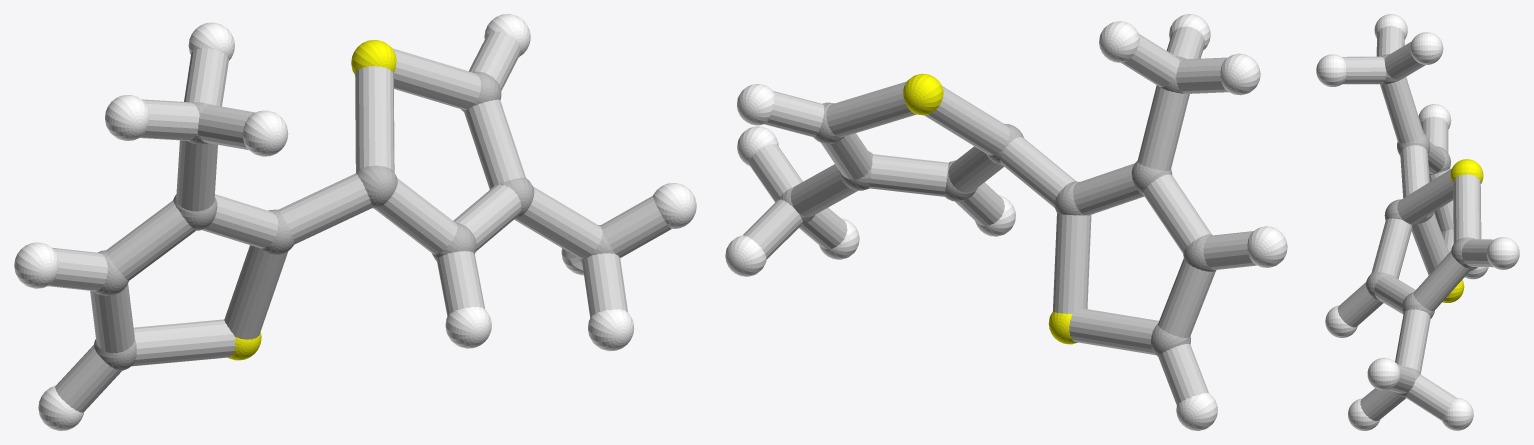
Rendered from Methylthiophene_Phi_40_Theta_310_Methylthiophene.glb.
3 renders of one model, left to right at view 1: azimuth 30°, elevation 25°; view 2: azimuth 150°, elevation 25°; view 3: azimuth 270°, elevation 25°, orthographic. The views are drawn at different scales.
Visible parts, largest first — view 1: grp7965, grp3621, grp1, grp7241; view 2: grp7965, grp3621, grp1, grp7241; view 3: grp7965, grp3621, grp1, grp7241.
Part boxes in pixels (x1,y1,x2,y2): grp7965: (48, 31, 671, 412); grp3621: (14, 14, 696, 430); grp1: (94, 71, 614, 370); grp7241: (228, 40, 396, 360); grp7965: (742, 26, 1256, 405); grp3621: (725, 14, 1287, 430); grp1: (779, 56, 1216, 356); grp7241: (903, 73, 1077, 344); grp7965: (1337, 25, 1493, 420); grp3621: (1316, 14, 1519, 430); grp1: (1366, 54, 1475, 397); grp7241: (1442, 159, 1483, 302).
Bounding box in the file's own units: 9.57 × 5.69 × 3.68.
